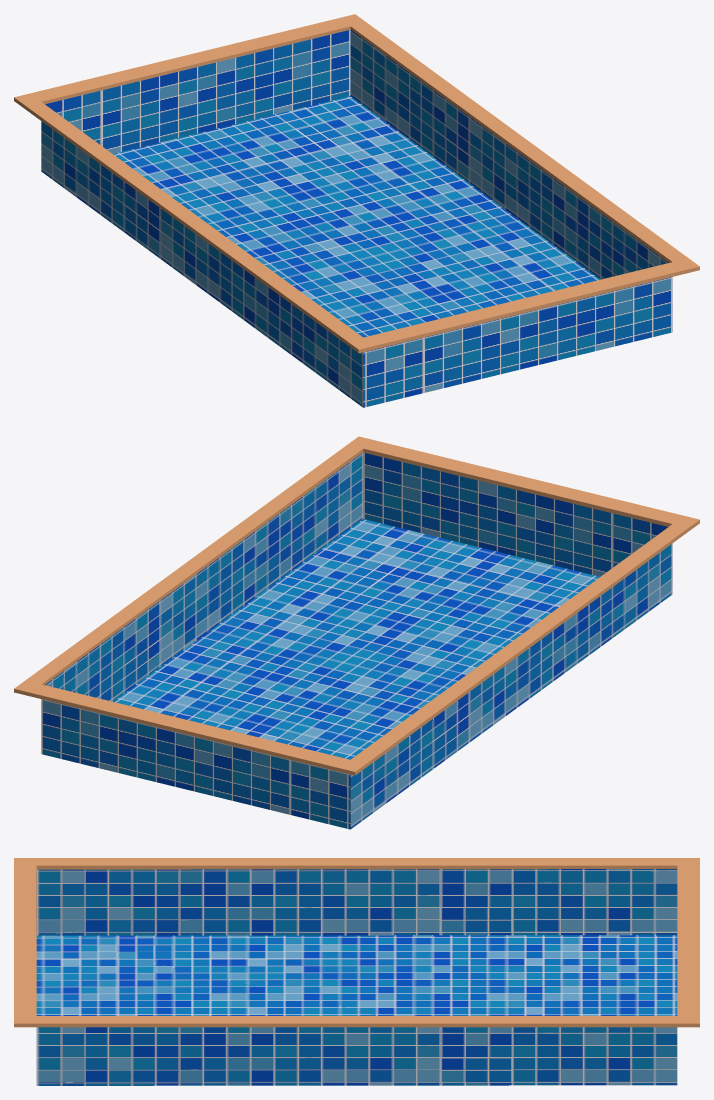
Rendered from Pool.fbx.
3 views of the same model, one above another, from view 1: azimuth 30°, elevation 25°; view 2: azimuth 150°, elevation 25°; view 3: azimuth 270°, elevation 25° (orthographic).
Parts seen in each view (by area): view 1: Pool; view 2: Pool; view 3: Pool.
Boxes of the visible parts, bbox=[...] form: Pool: bbox=[14, 14, 699, 407]; Pool: bbox=[14, 436, 699, 829]; Pool: bbox=[14, 858, 699, 1085].
Size of the model in its own units: 1062 by 209 by 1860.
